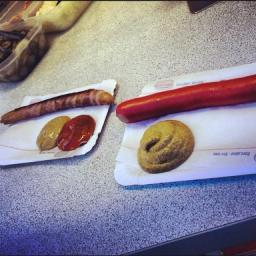hotdog: (175, 66, 256, 103), (120, 86, 206, 117), (0, 106, 96, 124), (20, 98, 108, 113), (42, 91, 119, 103), (114, 107, 134, 124)
